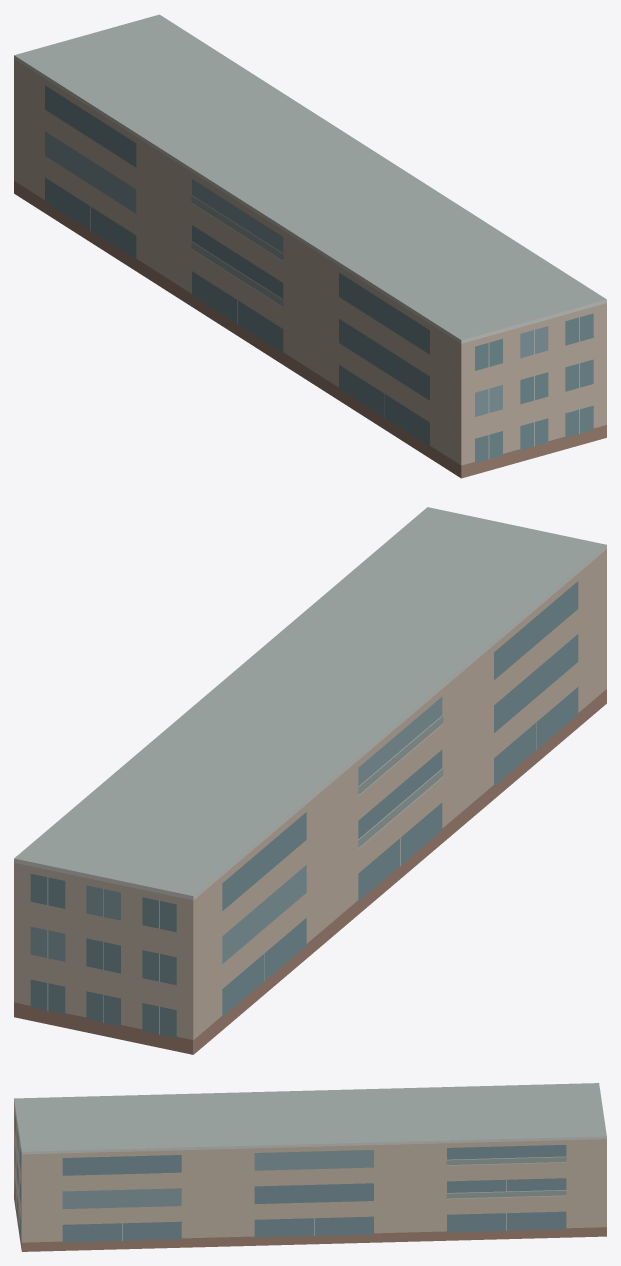
Rendered from residential-48952506-234d-4cef-8d87-08b25662af73.glb.
3 renders of one model, top to bottom at view 1: azimuth 30°, elevation 25°; view 2: azimuth 150°, elevation 25°; view 3: azimuth 270°, elevation 25°, orthographic. The views are drawn at different scales.
Parts seen in each view (by area): view 1: residential-48952506-234d-4cef-8d87-08b25662af73.tmp; view 2: residential-48952506-234d-4cef-8d87-08b25662af73.tmp; view 3: residential-48952506-234d-4cef-8d87-08b25662af73.tmp.
Boxes of the visible parts, x1,y1,x2,y2 form: residential-48952506-234d-4cef-8d87-08b25662af73.tmp: (14,14,606,478); residential-48952506-234d-4cef-8d87-08b25662af73.tmp: (14,507,606,1054); residential-48952506-234d-4cef-8d87-08b25662af73.tmp: (14,1083,606,1251).
Bounding box in the file's own units: 13.47 × 9.15 × 49.08.
